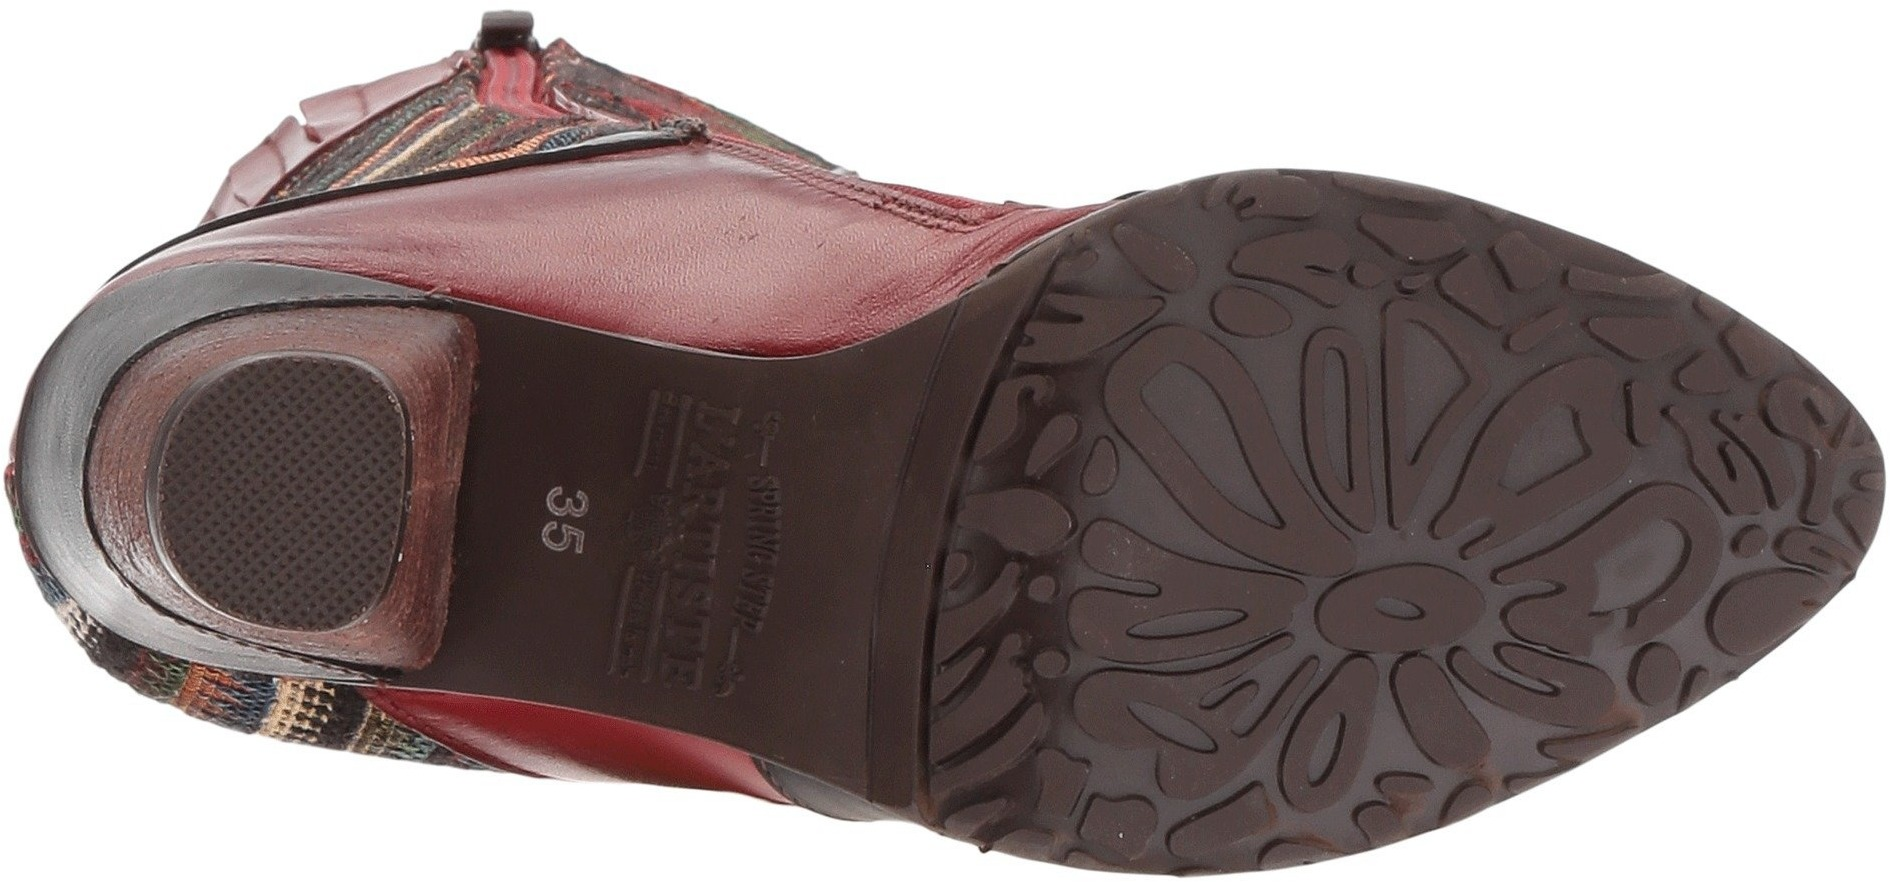other: (198, 412, 381, 576)
